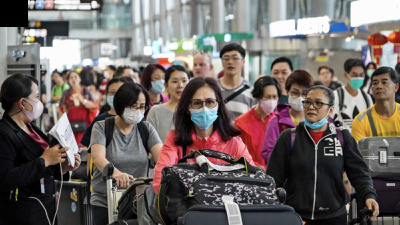mask_weared_incorrect: (303, 96, 330, 123)
with_mask: (188, 96, 219, 131), (288, 86, 308, 113), (122, 102, 146, 124), (26, 92, 44, 121), (260, 93, 279, 115), (106, 88, 122, 111), (348, 71, 366, 91), (151, 73, 168, 94), (367, 67, 378, 79)
without_mask: (371, 77, 396, 100), (168, 76, 190, 100), (223, 53, 243, 76), (272, 67, 291, 88), (192, 59, 210, 78), (321, 70, 333, 84), (68, 75, 80, 88)
